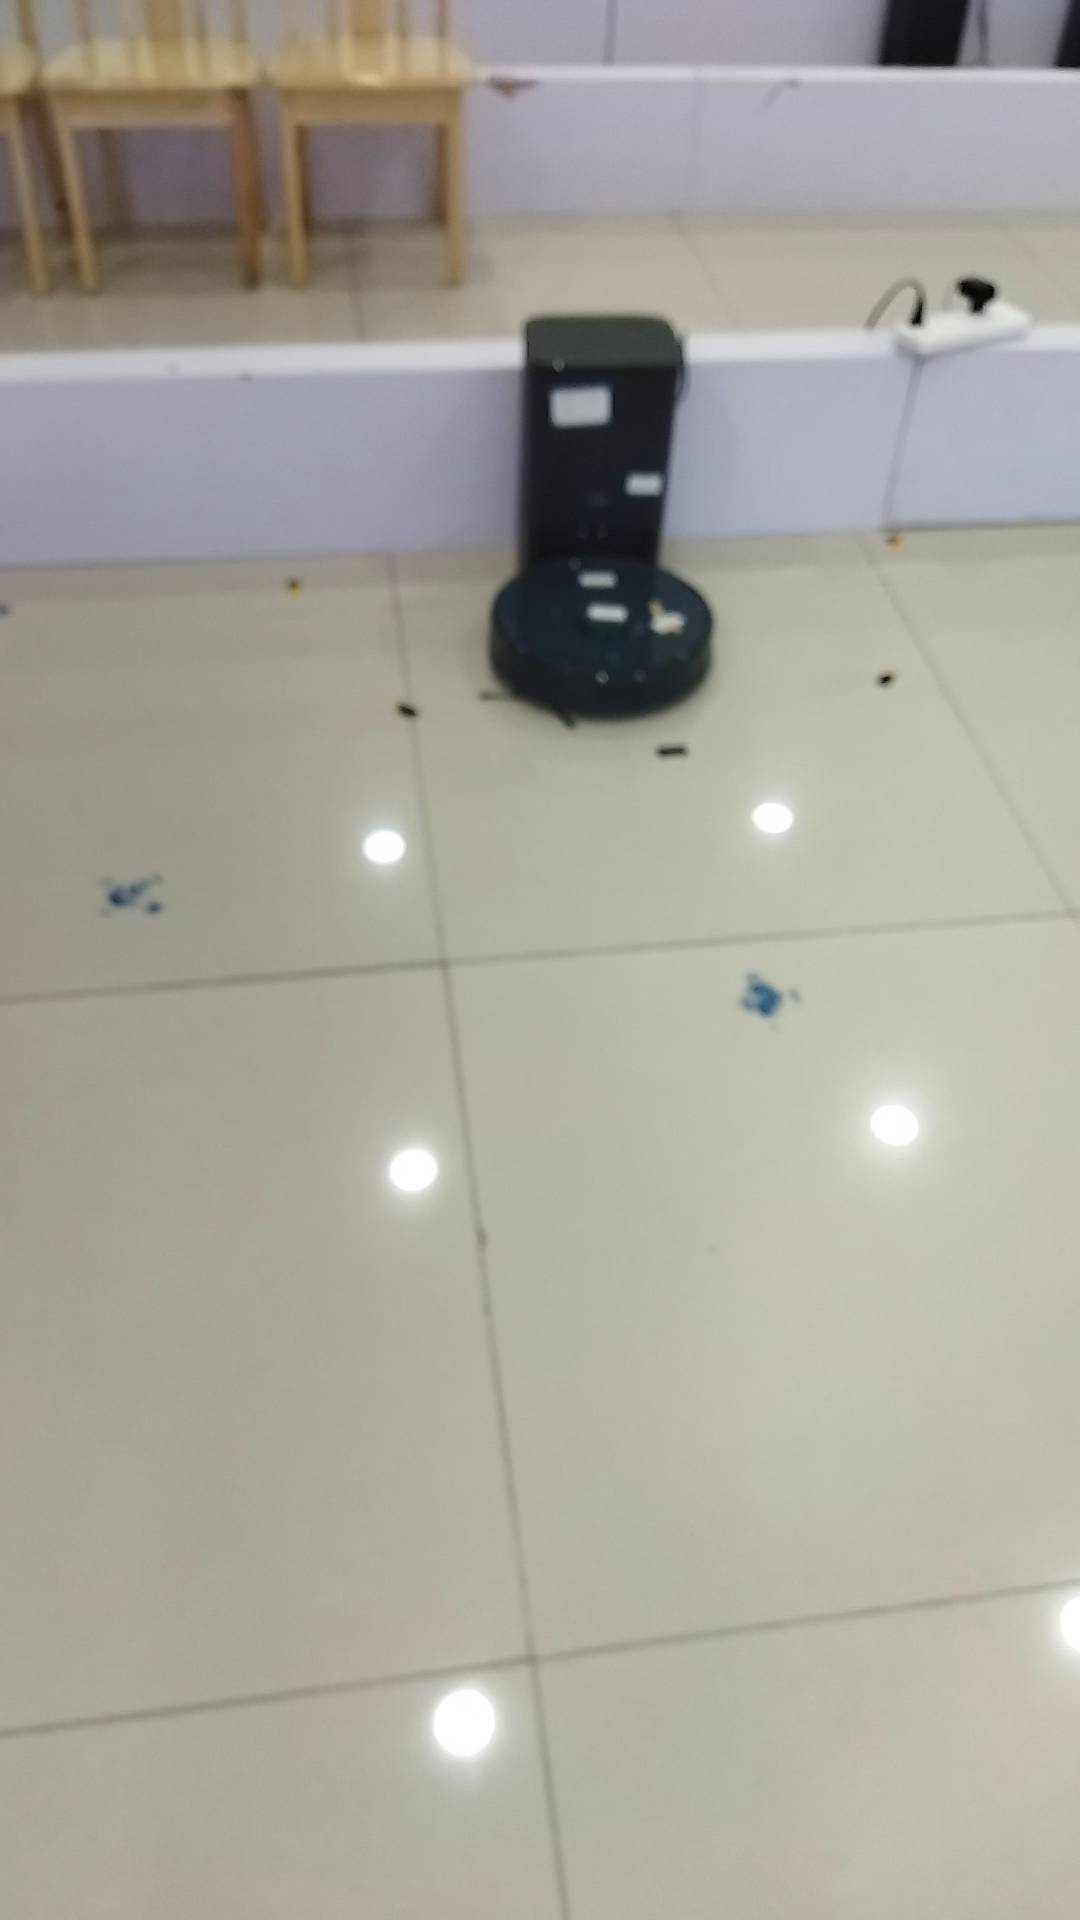dust collecting barrel: (522, 319, 684, 574)
